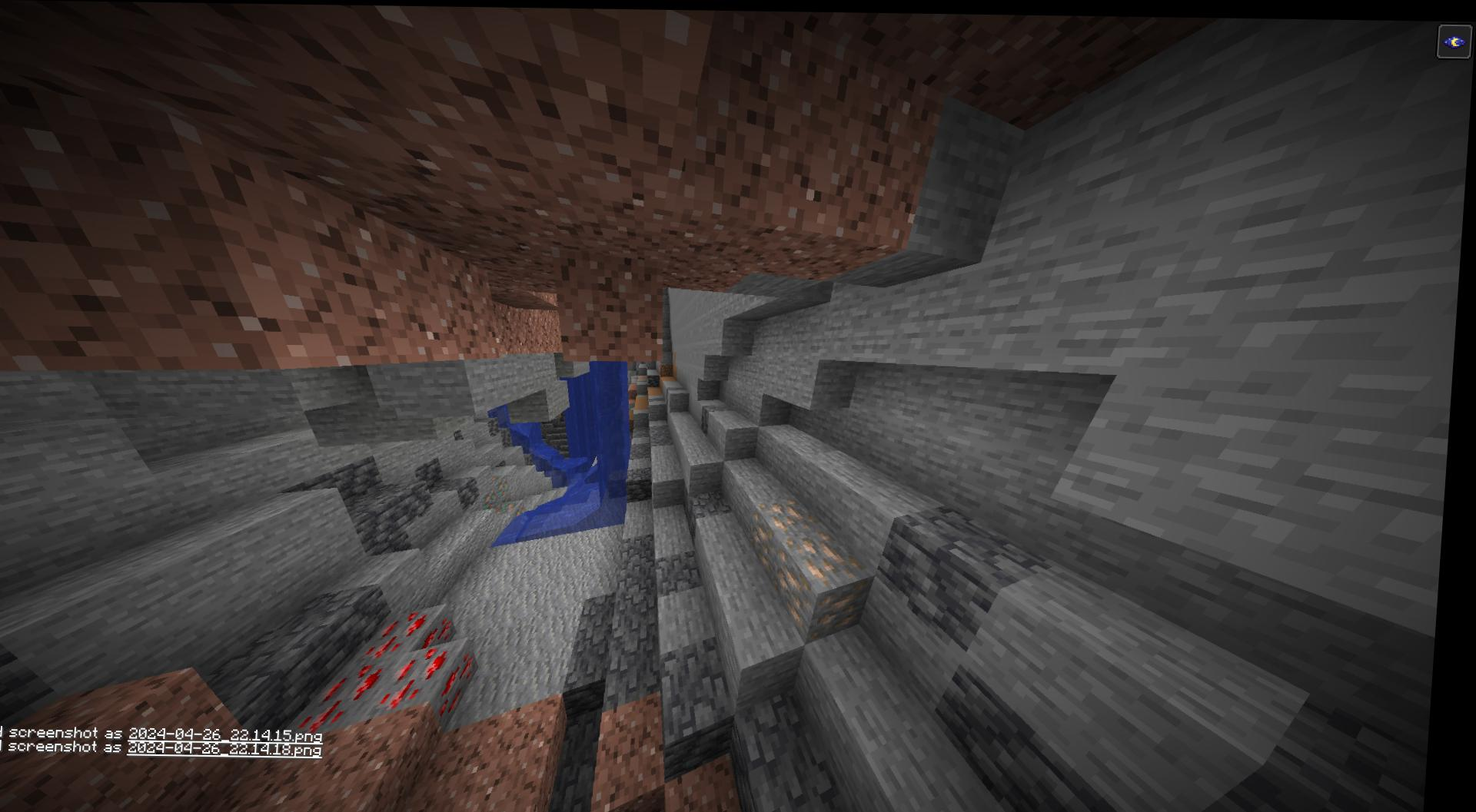iron ore: (745, 486, 889, 633)
redstone ore: (316, 602, 490, 736)
